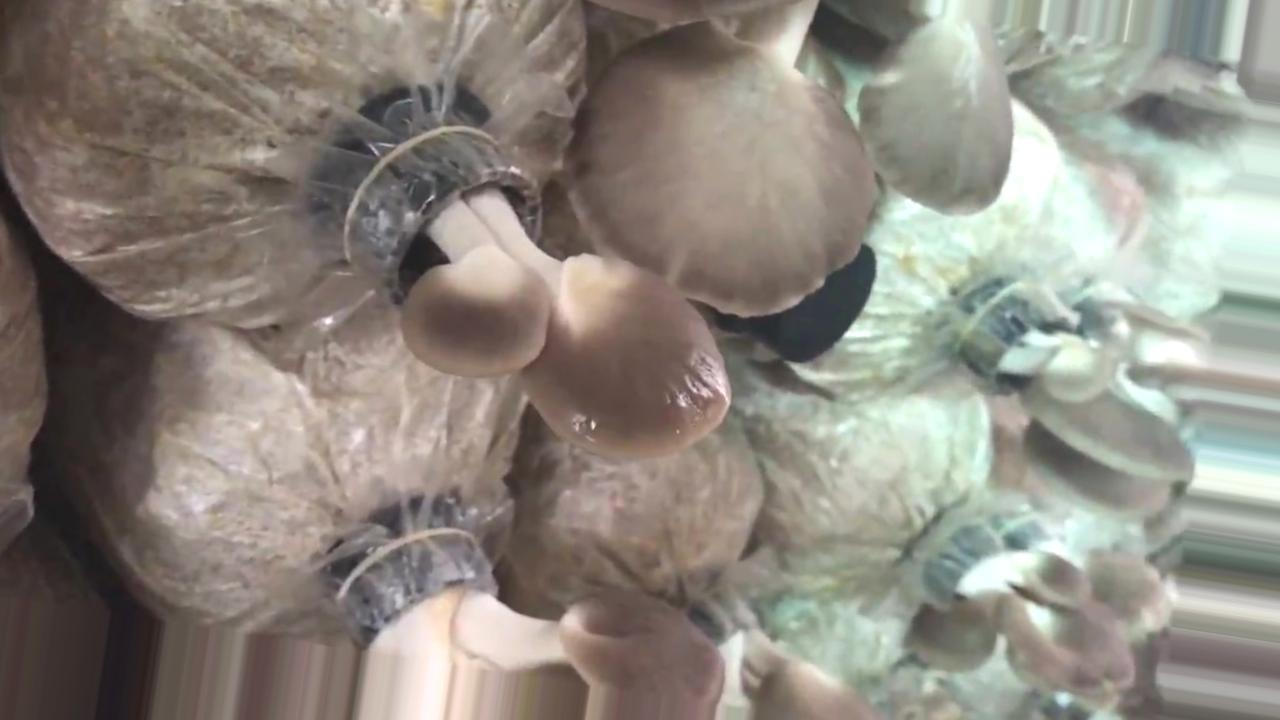nam: (561, 1, 1012, 325), (336, 112, 735, 471), (335, 520, 725, 720), (938, 267, 1213, 521), (900, 521, 1129, 697), (667, 591, 876, 720)
